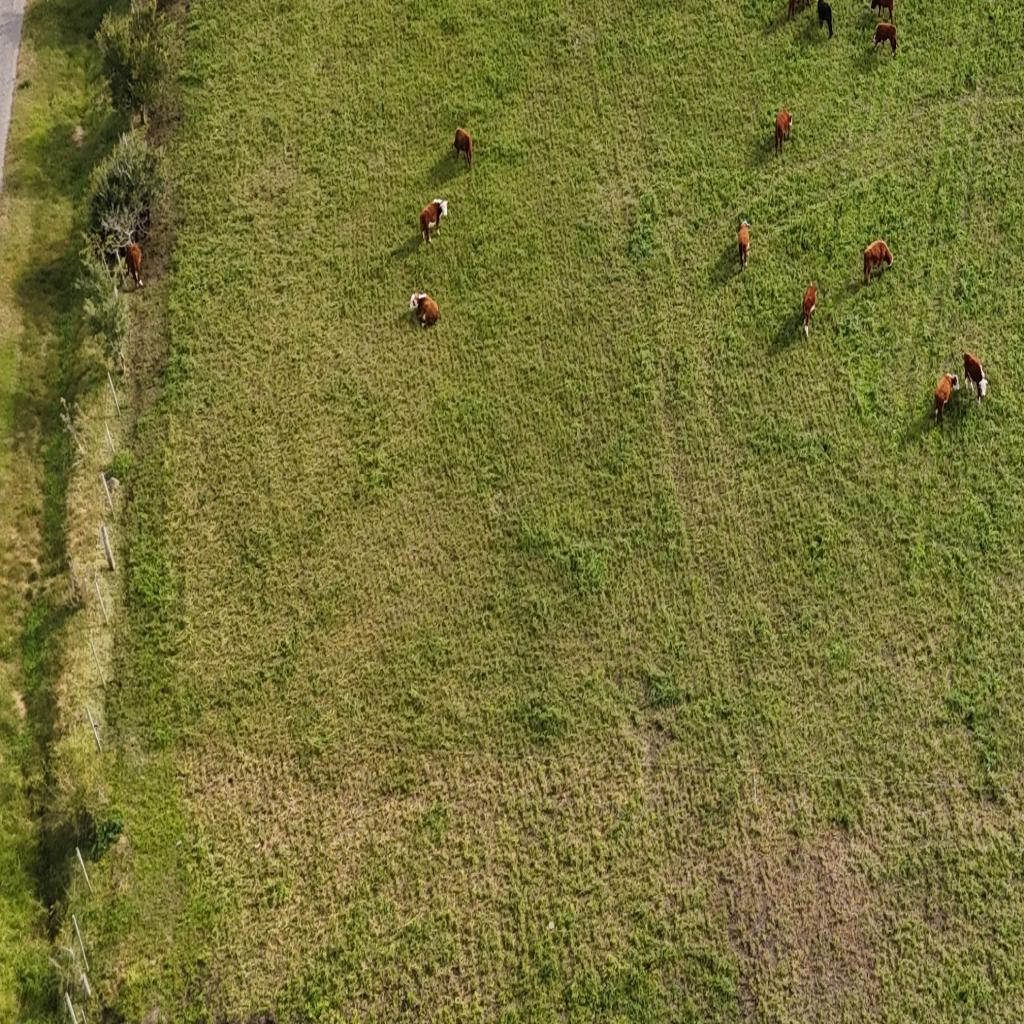cow: (863, 240, 894, 288), (420, 198, 450, 246), (963, 351, 990, 404), (933, 372, 959, 425), (408, 292, 440, 329), (124, 241, 144, 291), (774, 108, 794, 156), (802, 282, 818, 340), (737, 220, 753, 275), (872, 22, 897, 56), (453, 127, 473, 169), (817, 0, 834, 38), (788, 0, 813, 21), (870, 0, 894, 21)
